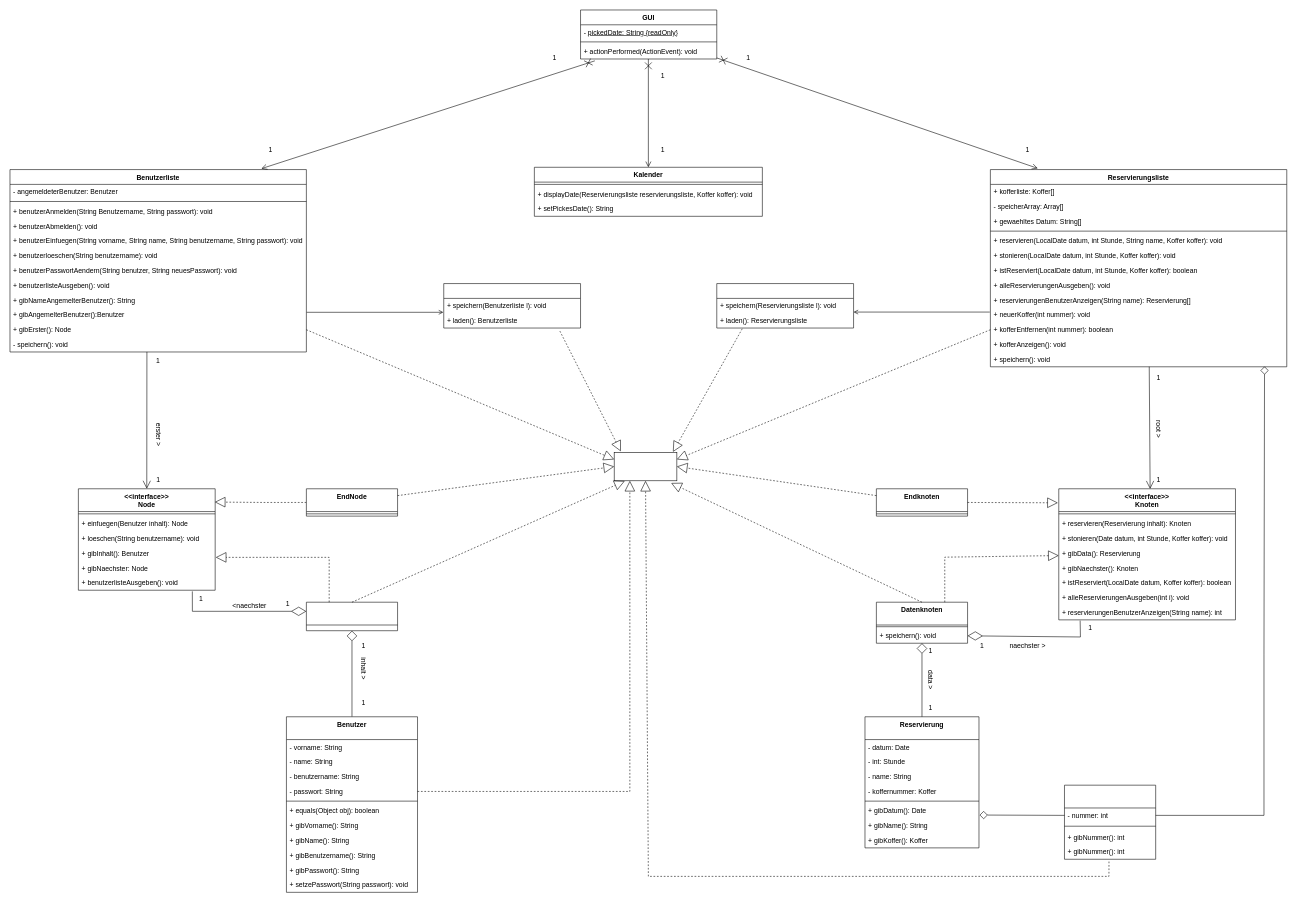
Image size: 1297x904. Some labels were removed from this diagram. Each missing label, with the box of its shape:
BenutzerSerializer: (443, 283, 581, 328)
DataNode: (306, 602, 398, 631)
Koffer: (1064, 785, 1156, 859)
KompositumSerializer: (716, 283, 854, 328)
«interface» Serializable: (614, 452, 677, 481)
